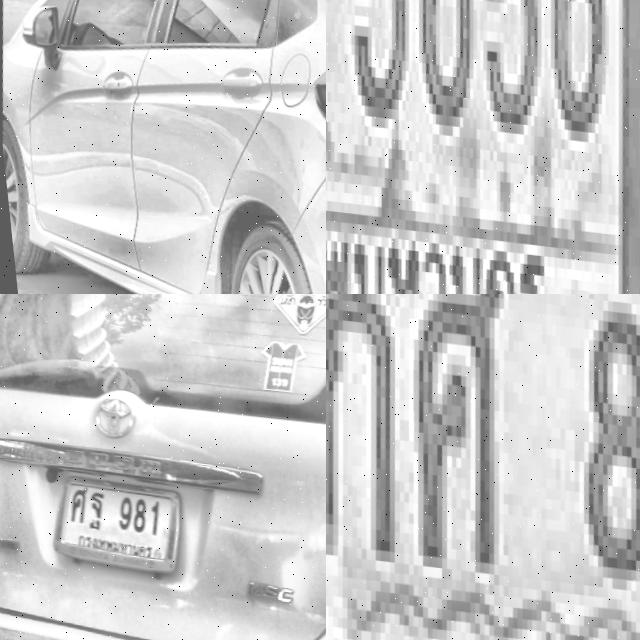license-plate: (326, 294, 640, 640), (326, 0, 640, 294), (39, 462, 180, 576)
